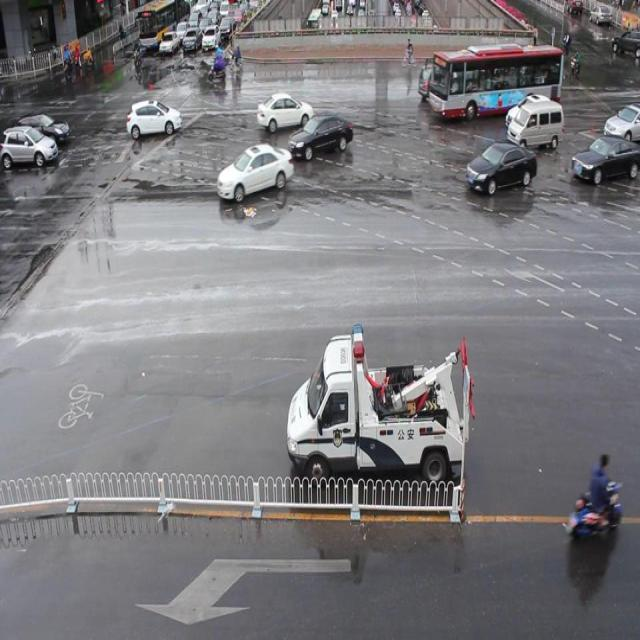bus: (286, 320, 475, 486)
car: (216, 142, 294, 200), (464, 140, 535, 194), (570, 138, 640, 186), (289, 112, 350, 158), (257, 93, 313, 132), (126, 99, 182, 137), (505, 92, 551, 136), (417, 62, 457, 103), (601, 104, 640, 144)
truck: (507, 100, 562, 151)
van: (429, 49, 562, 112)
